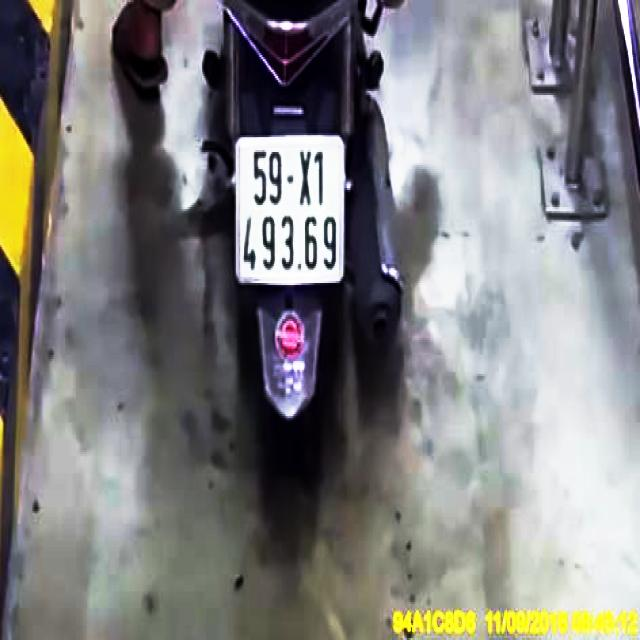license_plate: (237, 139, 346, 283)
